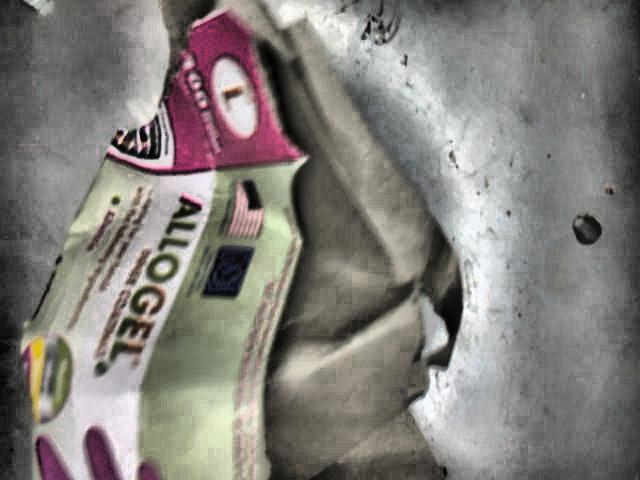Paper: (19, 0, 465, 478)
